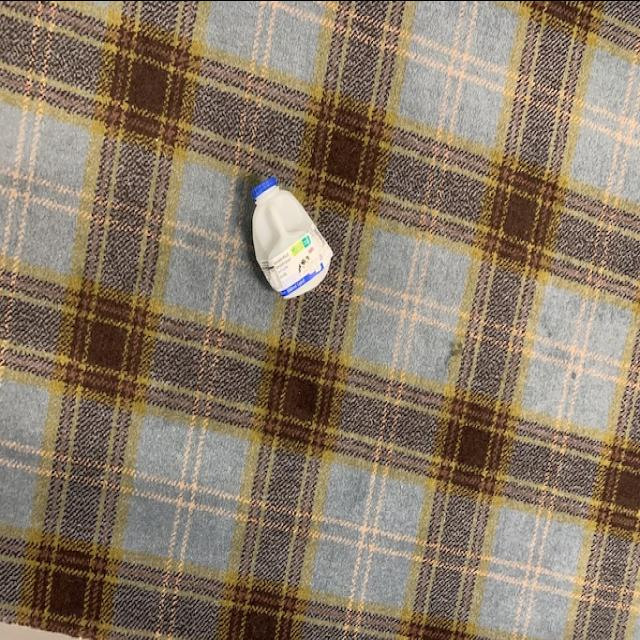litter: (245, 166, 338, 306)
